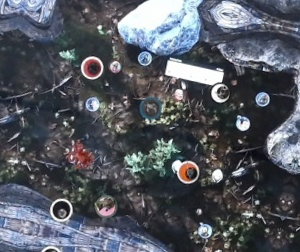black: (56, 136, 95, 173), (45, 191, 78, 224)
brown_turquoise: (136, 94, 164, 121)
orange: (174, 156, 201, 184)
pink_green: (90, 189, 121, 220)
red: (78, 54, 106, 81)
white: (206, 79, 233, 106)
